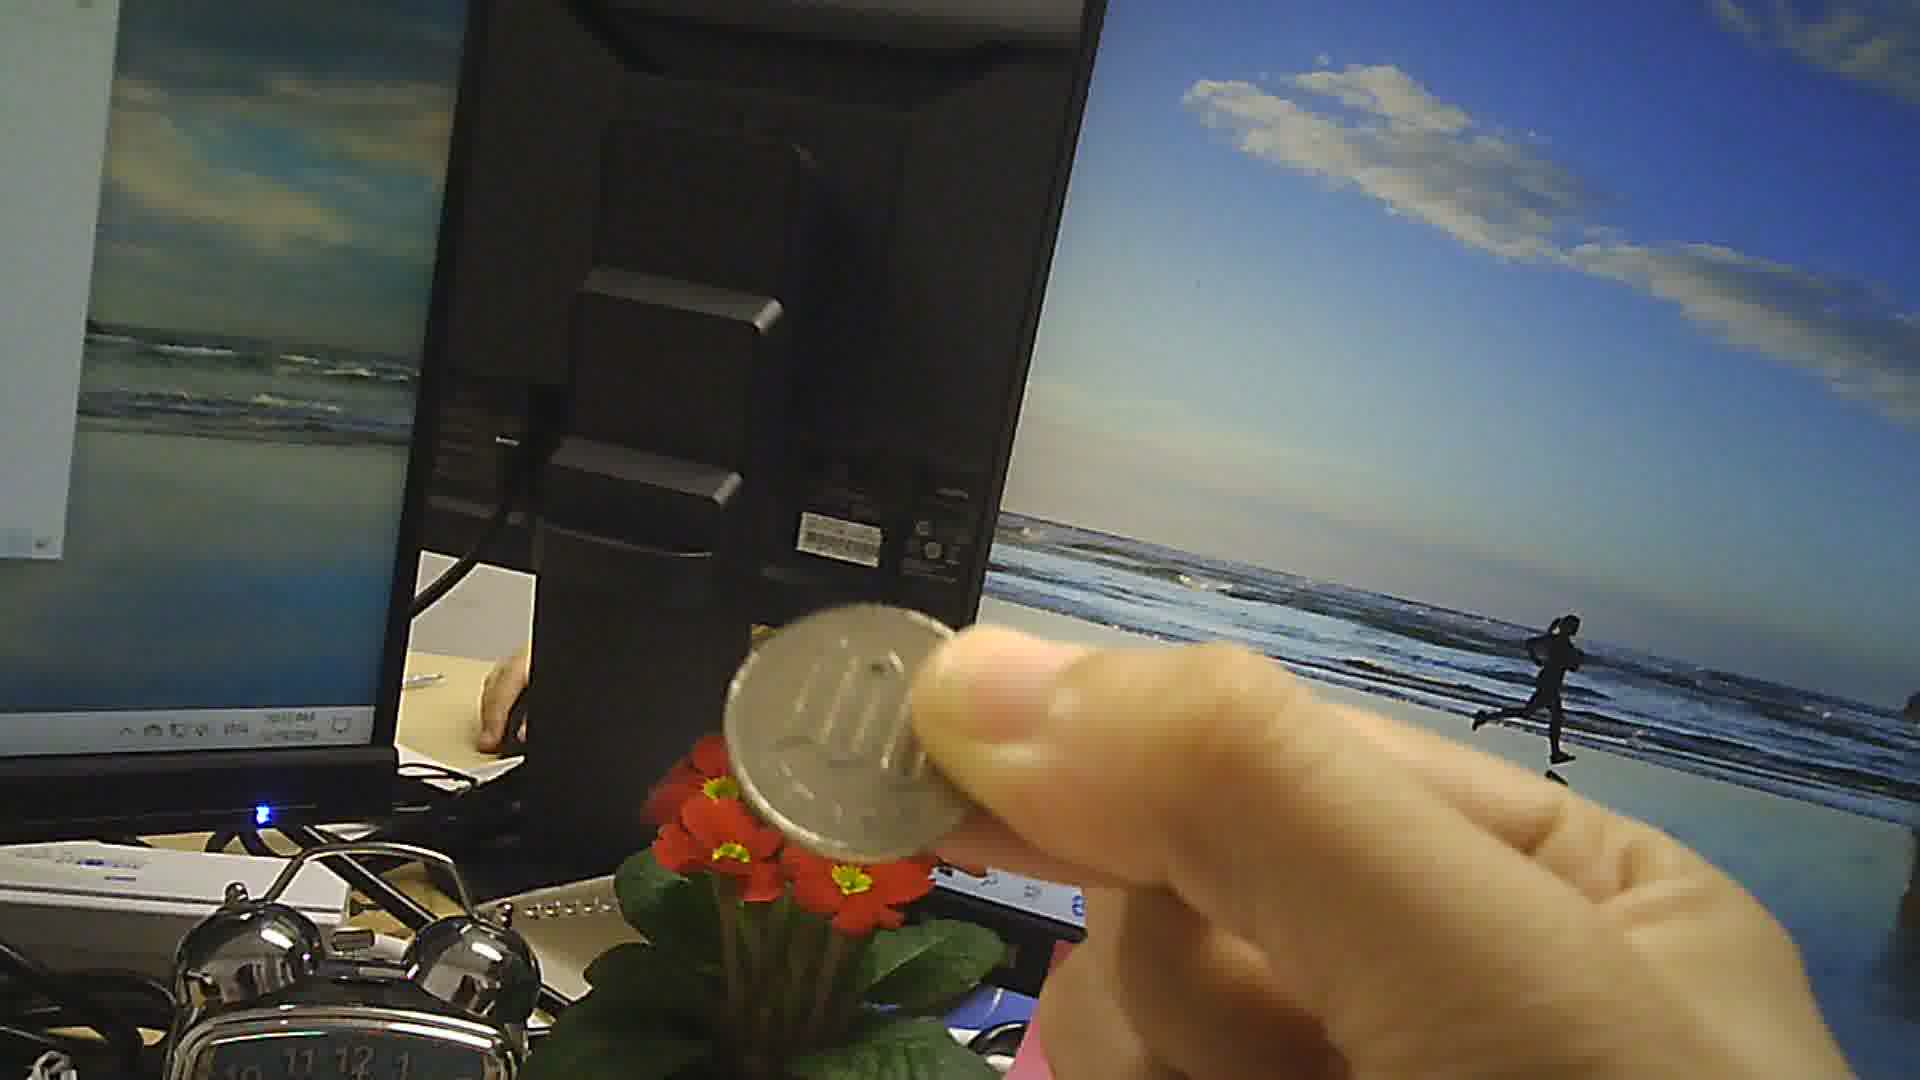100 Yen: (709, 595, 992, 865)
